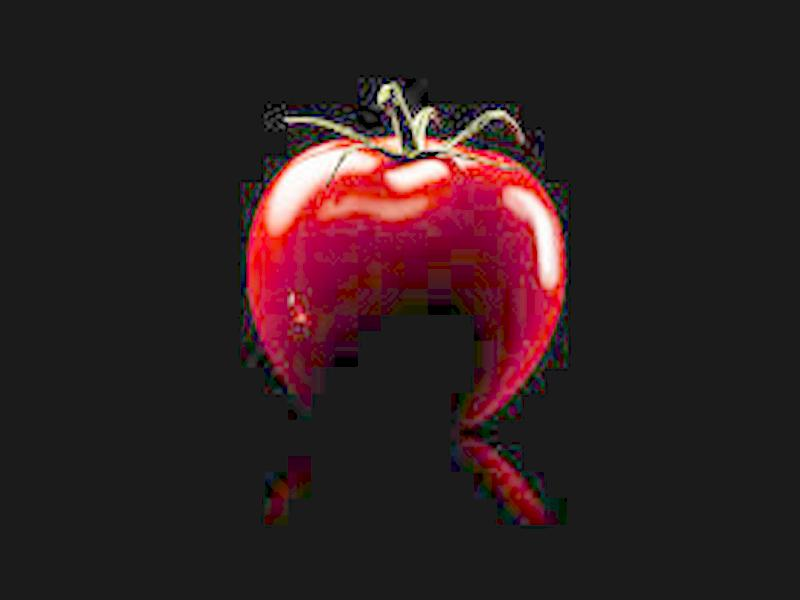Tomato: (246, 128, 563, 416)
